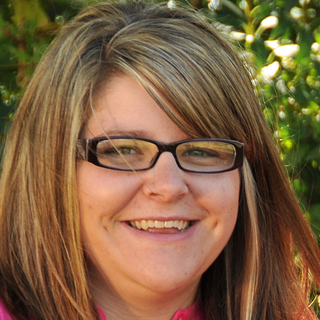eye: (99, 142, 145, 166), (185, 143, 224, 168)
